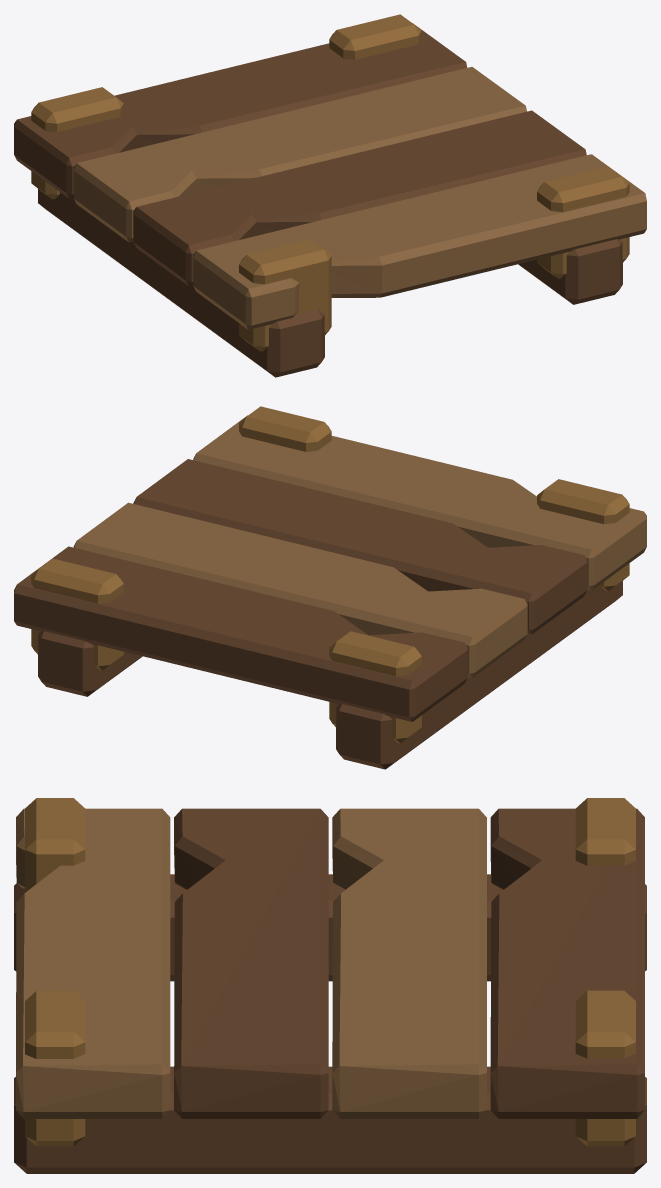
File: VAULT_TIMBER_BRIDGE.lo.glb
3 views of the same model, one above another, from view 1: azimuth 30°, elevation 25°; view 2: azimuth 150°, elevation 25°; view 3: azimuth 270°, elevation 25° (orthographic). The views are drawn at different scales.
Visible parts, largest first — view 1: Body_Mesh; view 2: Body_Mesh; view 3: Body_Mesh.
Boxes of the visible parts, x1=… form: Body_Mesh: x1=14, y1=14, x2=646, y2=377; Body_Mesh: x1=14, y1=406, x2=646, y2=769; Body_Mesh: x1=14, y1=798, x2=646, y2=1173.
Bounding box in the file's own units: 0.97 × 0.26 × 1.
